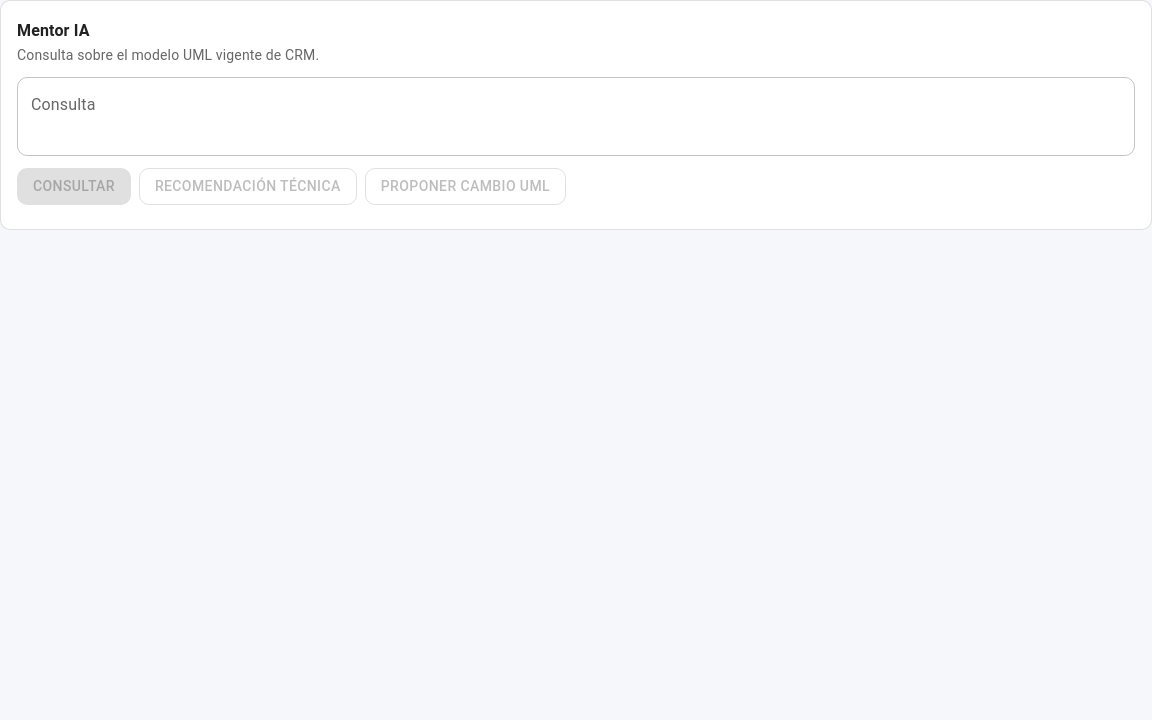
Test: MentorPanel: propuesta UML (CU-2P-06) › UI-01 y UI-14: crear una propuesta válida muestra la vista previa, el diff y el estado Pendiente
The image size is (1152, 720).
Type "Agrega el atributo teléfono de tipo String a Cliente" into the text box labelled "Consulta".
click(576, 116); type("Agrega el atributo teléfono de tipo String a Cliente")  # box [31,94,1121,140]
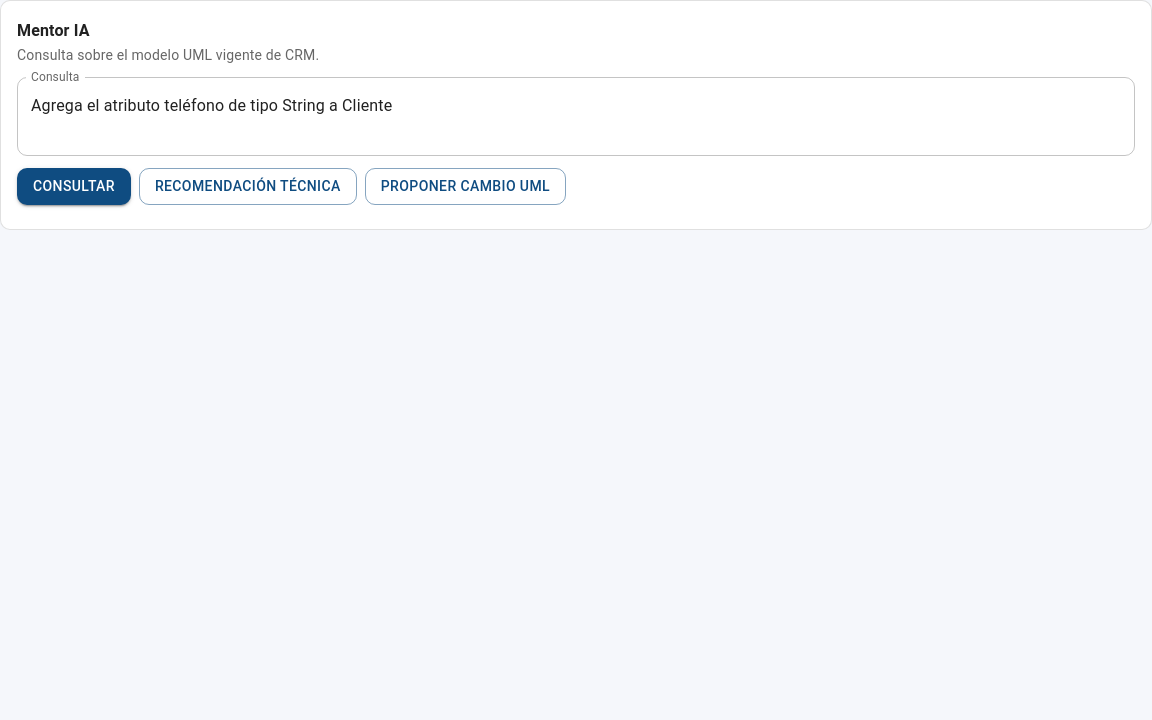
Click the button "Proponer cambio UML".
click(465, 186)  # box [365,168,566,204]
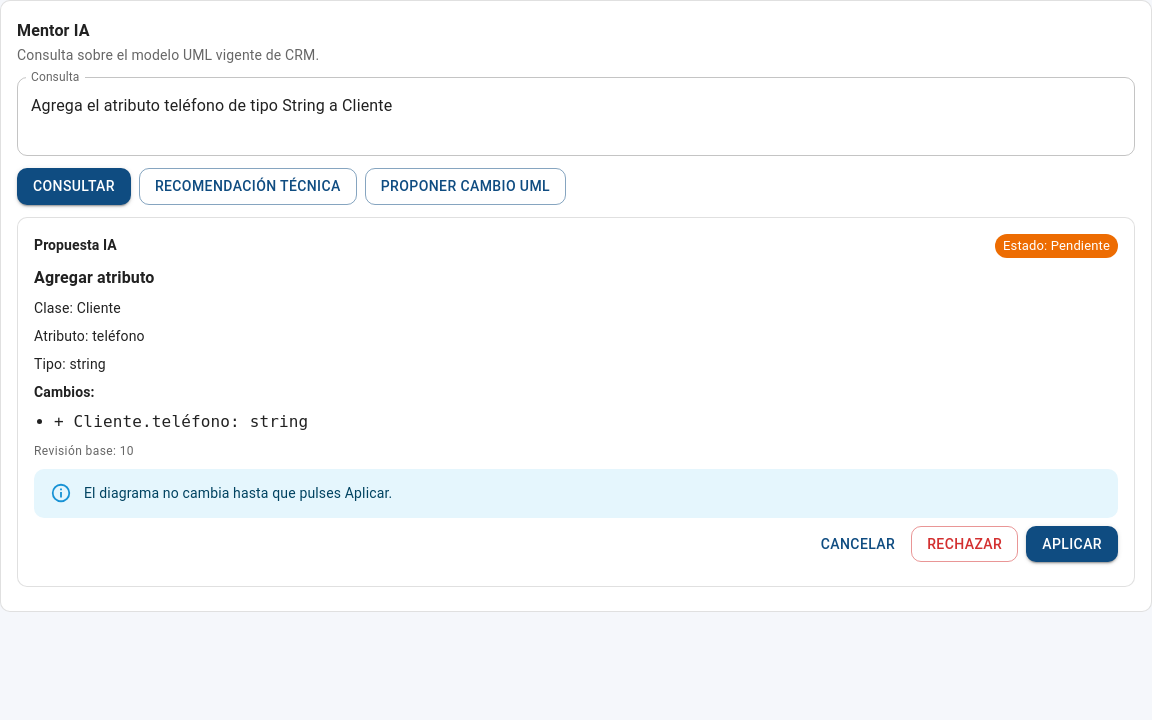
expect the heading "Propuesta IA" is shown: met, box [34,234,117,256]
expect the text "Agregar atributo" is shown: met, box [34,268,154,286]
expect the text "Clase: Cliente" is shown: met, box [34,300,121,316]
